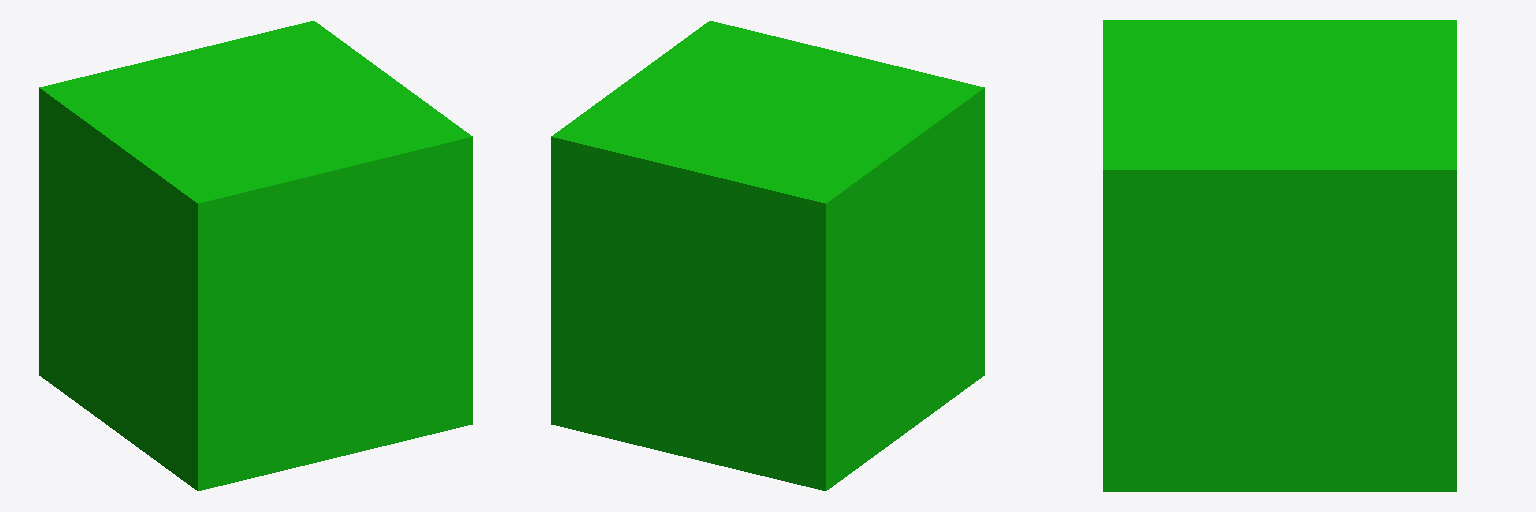
robot.urdf — box:
<?xml version="1.0"?>
<robot name="box" xmlns:xacro="http://ros.org/wiki/xacro">
  <link name="box_link">
    <visual>
      <geometry>
        <box size="0.5 0.5 0.5"/>
      </geometry>
      <material name="green">
        <color rgba="0.1 0.8 0.1 1.0"/>
      </material>
    </visual>
  </link>
</robot>

--- Facts derived from the render (not from the file) ---
The picture shows the robot from 3 angles, left to right: view 1: azimuth 30°, elevation 25°; view 2: azimuth 150°, elevation 25°; view 3: azimuth 270°, elevation 25°; orthographic projection.
Model box with 1 links and 0 joints (none), rooted at box_link, posed every joint at zero.
Links seen in each view (by area): view 1: box_link; view 2: box_link; view 3: box_link.
Link boxes in pixels (x1,y1,x2,y2): box_link: (39, 21, 472, 490); box_link: (551, 21, 984, 490); box_link: (1103, 20, 1456, 491).
Bounding box of the posed robot: 0.5 × 0.5 × 0.5 m (x, y, z).
Geometry: primitives only (box / cylinder / sphere), no mesh files.